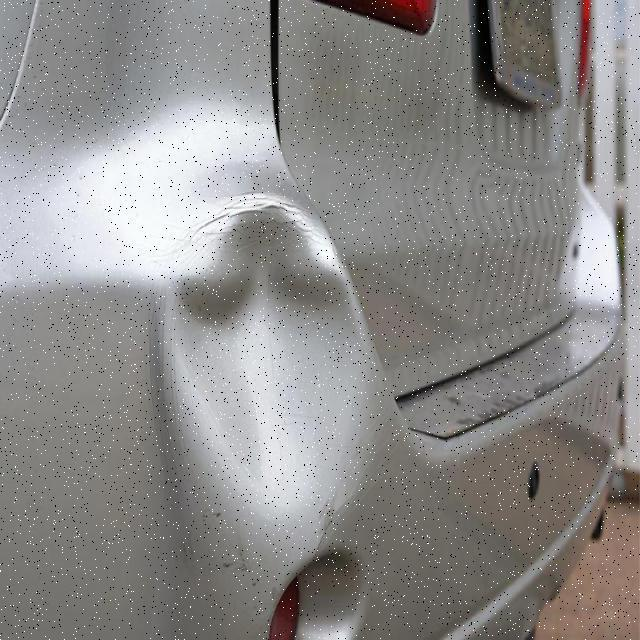rear-bumper-dent: (0, 173, 639, 639)
